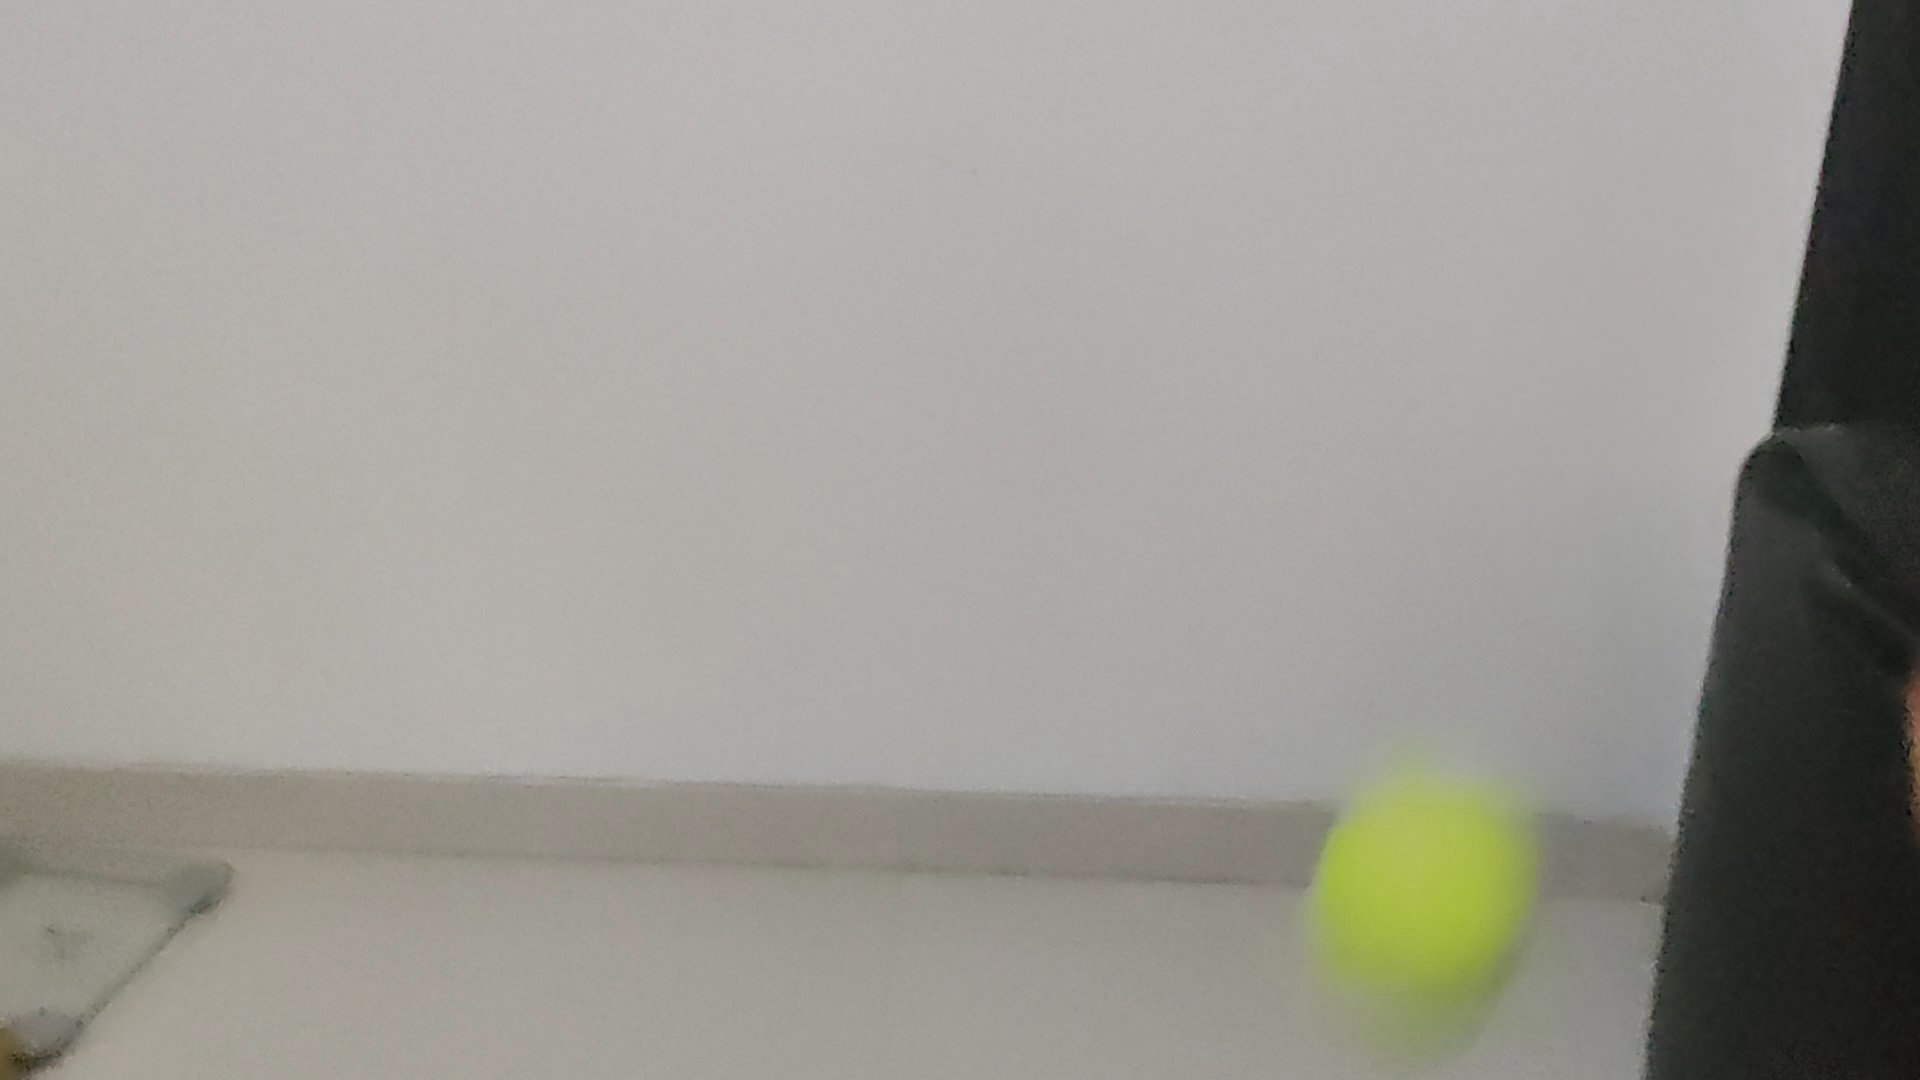Tennis-Ball: (1304, 771, 1544, 1013)
